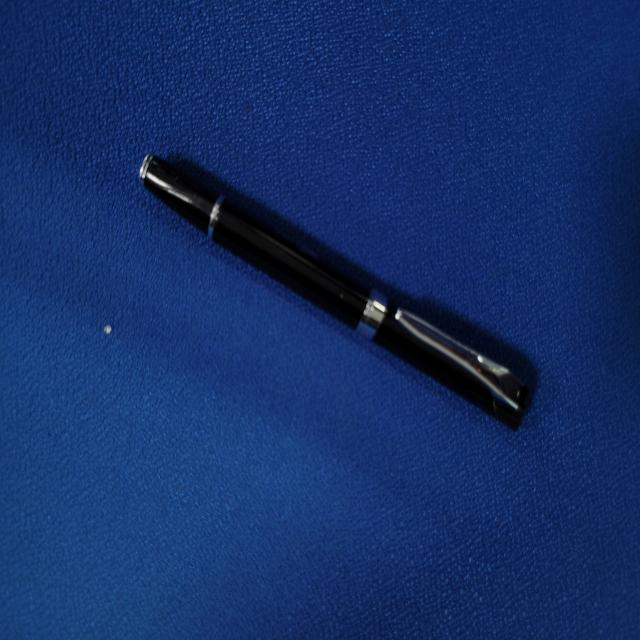caneta: (124, 132, 566, 455)
